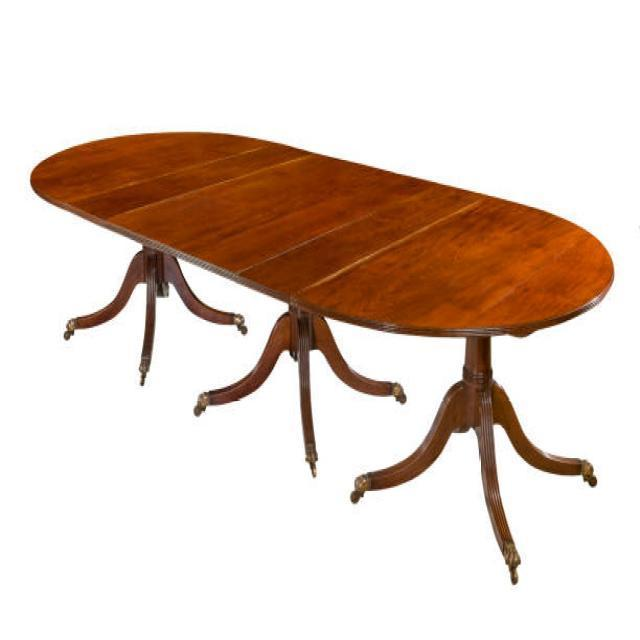table: (29, 127, 615, 584)
